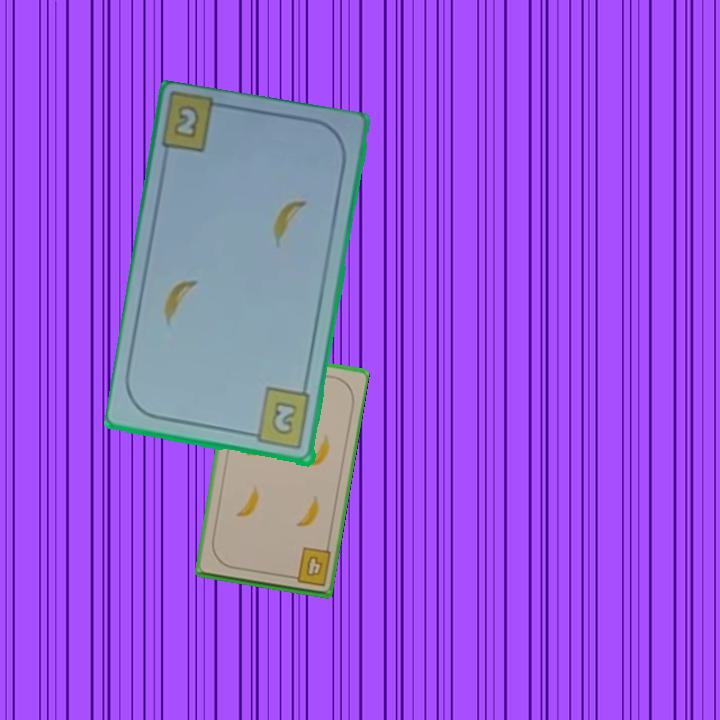2b: (245, 385, 314, 452), (173, 105, 200, 138)
4b: (285, 544, 334, 589)
